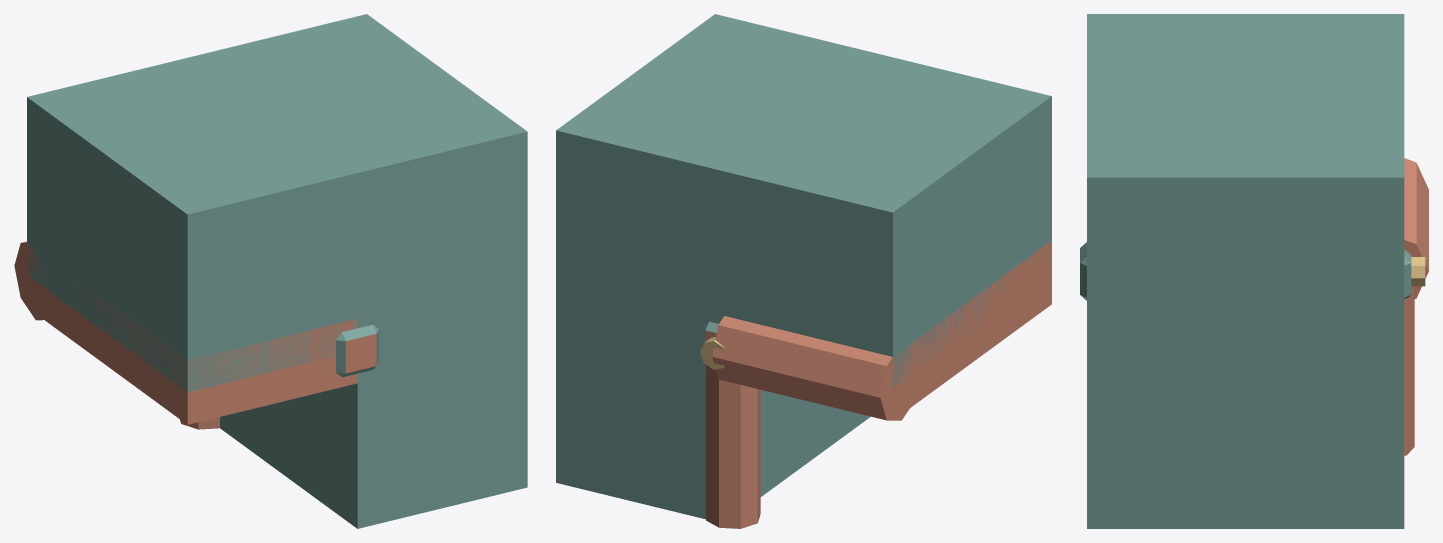
The model's file is TH_Tile_13.fbx.
3 renders of one model, left to right at view 1: azimuth 30°, elevation 25°; view 2: azimuth 150°, elevation 25°; view 3: azimuth 270°, elevation 25°, orthographic.
Parts seen in each view (by area): view 1: TH_Tile_13; view 2: TH_Tile_13; view 3: TH_Tile_13.
Boxes of the visible parts, x1,y1,x2,y2 form: TH_Tile_13: (14,14,527,528); TH_Tile_13: (556,14,1051,528); TH_Tile_13: (1080,14,1428,528).
Bounding box in the file's own units: 1.1 × 1.1 × 0.99.
